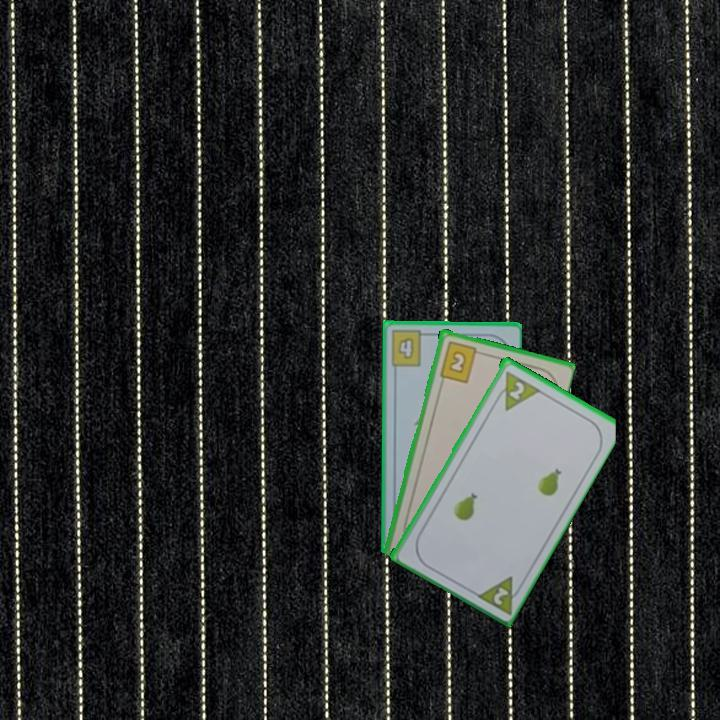2b: (436, 337, 485, 385)
2p: (471, 572, 527, 617), (505, 377, 528, 403)
4b: (387, 327, 431, 369)
